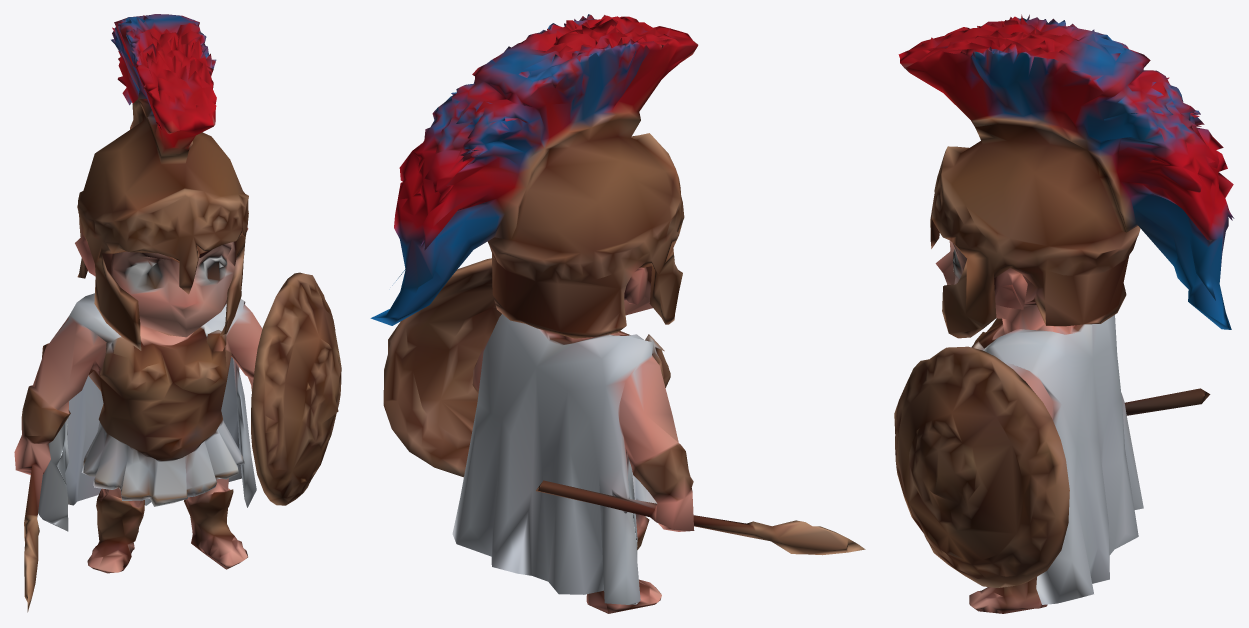
The model's file is hoplit_m_lo.glb.
3 views of the same model, side by side, from view 1: azimuth 30°, elevation 25°; view 2: azimuth 150°, elevation 25°; view 3: azimuth 270°, elevation 25° (orthographic). The views are drawn at different scales.
Bounding box in the file's own units: 1.43 × 1.89 × 1.04.
